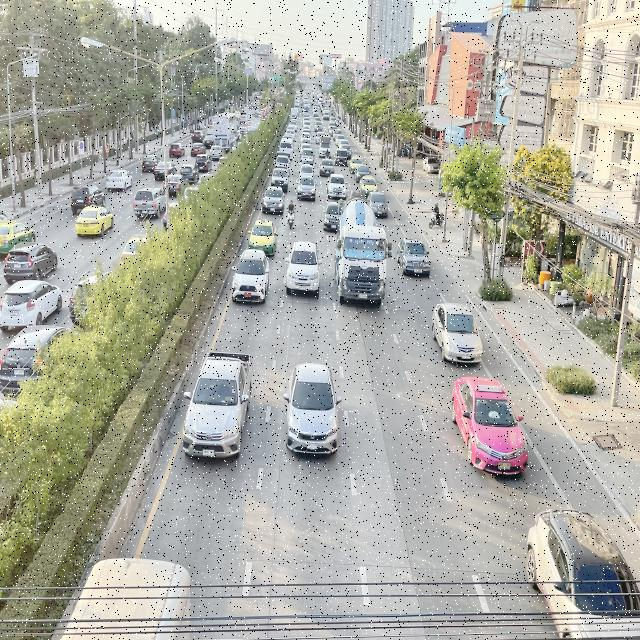bike: (286, 199, 296, 231)
car: (525, 503, 640, 640), (181, 349, 255, 462), (450, 373, 530, 477), (282, 361, 343, 459), (431, 302, 485, 368), (285, 239, 323, 299), (231, 248, 270, 304), (397, 236, 431, 278), (246, 217, 278, 258), (261, 185, 286, 215), (322, 202, 345, 232), (367, 192, 390, 218), (296, 176, 318, 202), (327, 173, 348, 200)
truck: (333, 195, 392, 309)
